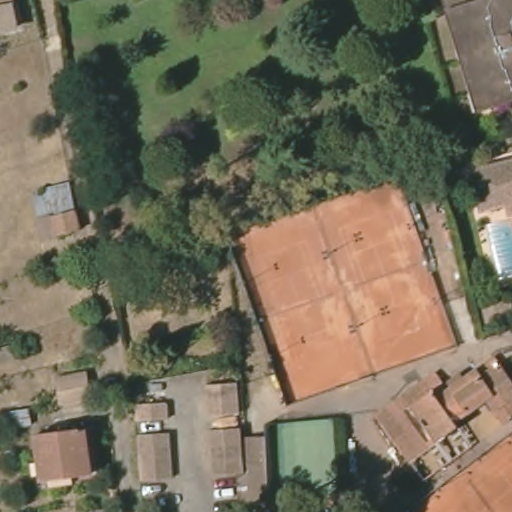pool: (485, 213, 512, 279)
